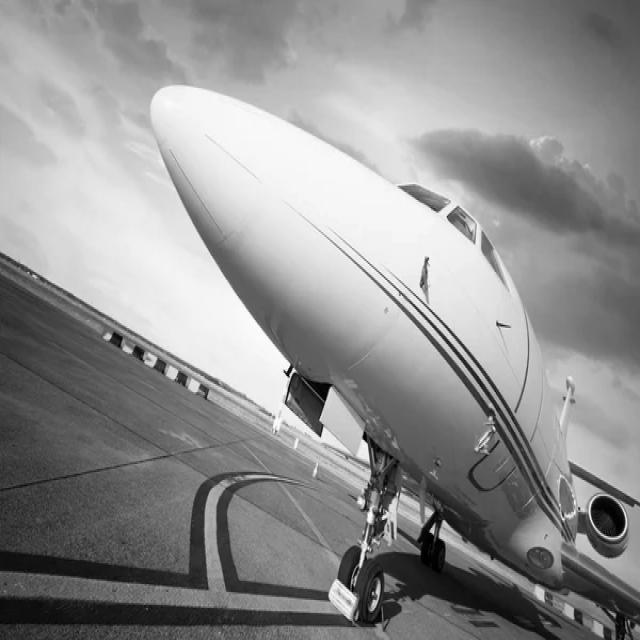Aircraft: (135, 60, 640, 636)
